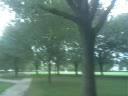window: (88, 60, 100, 92), (85, 9, 98, 36), (46, 65, 57, 90), (29, 31, 38, 56), (120, 1, 128, 27), (26, 68, 35, 87), (51, 26, 59, 45)
